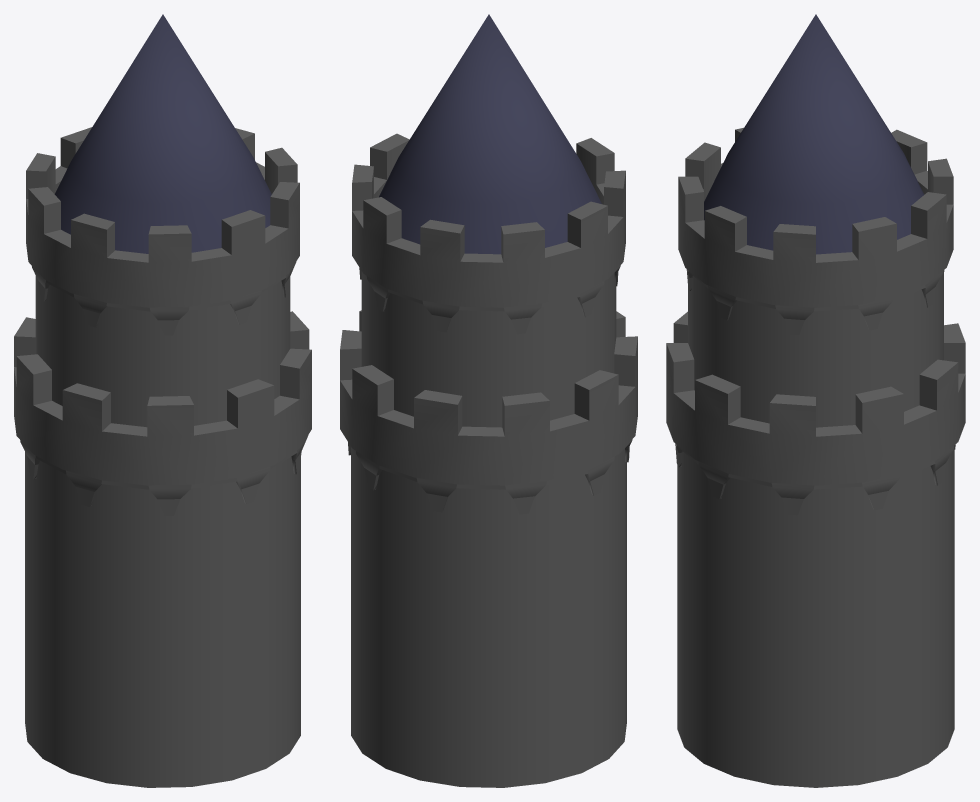
File: Castle_TowerC_Large.fbx
3 renders of one model, left to right at view 1: azimuth 30°, elevation 25°; view 2: azimuth 150°, elevation 25°; view 3: azimuth 270°, elevation 25°, orthographic.
Parts seen in each view (by area): view 1: Castle_TowerC_Large; view 2: Castle_TowerC_Large; view 3: Castle_TowerC_Large.
Part boxes in pixels (x1,y1,x2,y2): Castle_TowerC_Large: (14, 14, 311, 787); Castle_TowerC_Large: (340, 14, 637, 787); Castle_TowerC_Large: (666, 14, 965, 787).
Bounding box in the file's own units: 438 × 1156 × 438.
